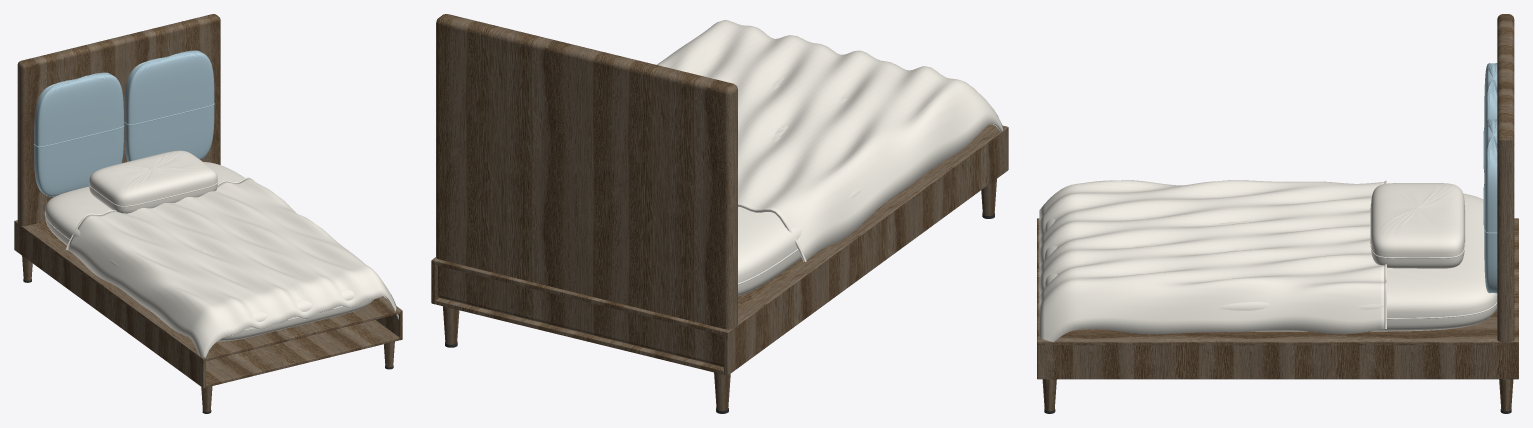
The model's file is detail-bed-single.glb.
The picture shows the model from 3 angles, left to right: view 1: azimuth 30°, elevation 25°; view 2: azimuth 150°, elevation 25°; view 3: azimuth 270°, elevation 25°; orthographic projection. The views are drawn at different scales.
Parts seen in each view (by area): view 1: 真实起伏被面, 床头板, 分片软包床头, 分片软包床头.001, 左侧板, 鼓起枕头, 顶板, 底板, 包边床垫, 右侧板; view 2: 床头板, 真实起伏被面, 左侧板, 顶板, 包边床垫, 底板, 收分柜脚.001, 收分柜脚.003; view 3: 真实起伏被面, 右侧板, 包边床垫, 鼓起枕头, 顶板, 床头板, 分片软包床头.001, 分片软包床头.
Part boxes in pixels (<box>): 真实起伏被面: <box>67,178,398,357</box>; 床头板: <box>17,14,220,247</box>; 分片软包床头: <box>34,72,123,196</box>; 分片软包床头.001: <box>124,50,214,161</box>; 左侧板: <box>14,220,205,388</box>; 鼓起枕头: <box>89,150,217,213</box>; 顶板: <box>14,220,401,361</box>; 底板: <box>206,320,399,387</box>; 包边床垫: <box>45,162,373,341</box>; 右侧板: <box>376,296,402,340</box>; 床头板: <box>436,14,737,367</box>; 真实起伏被面: <box>656,20,1002,261</box>; 左侧板: <box>724,126,1008,375</box>; 顶板: <box>432,124,1008,335</box>; 包边床垫: <box>709,69,861,296</box>; 底板: <box>435,298,723,374</box>; 收分柜脚.001: <box>714,372,730,410</box>; 收分柜脚.003: <box>443,306,459,344</box>; 真实起伏被面: <box>1039,180,1384,342</box>; 右侧板: <box>1037,340,1518,379</box>; 包边床垫: <box>1045,193,1497,331</box>; 鼓起枕头: <box>1371,183,1464,268</box>; 顶板: <box>1037,219,1518,345</box>; 床头板: <box>1497,14,1514,371</box>; 分片软包床头.001: <box>1484,119,1497,293</box>; 分片软包床头: <box>1484,63,1497,151</box>.
Bounding box in the file's own units: 1.29 × 1.35 × 2.1.
4 materials, 1 textured.
